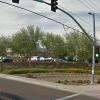Traffic light: (40, 1, 64, 13)
